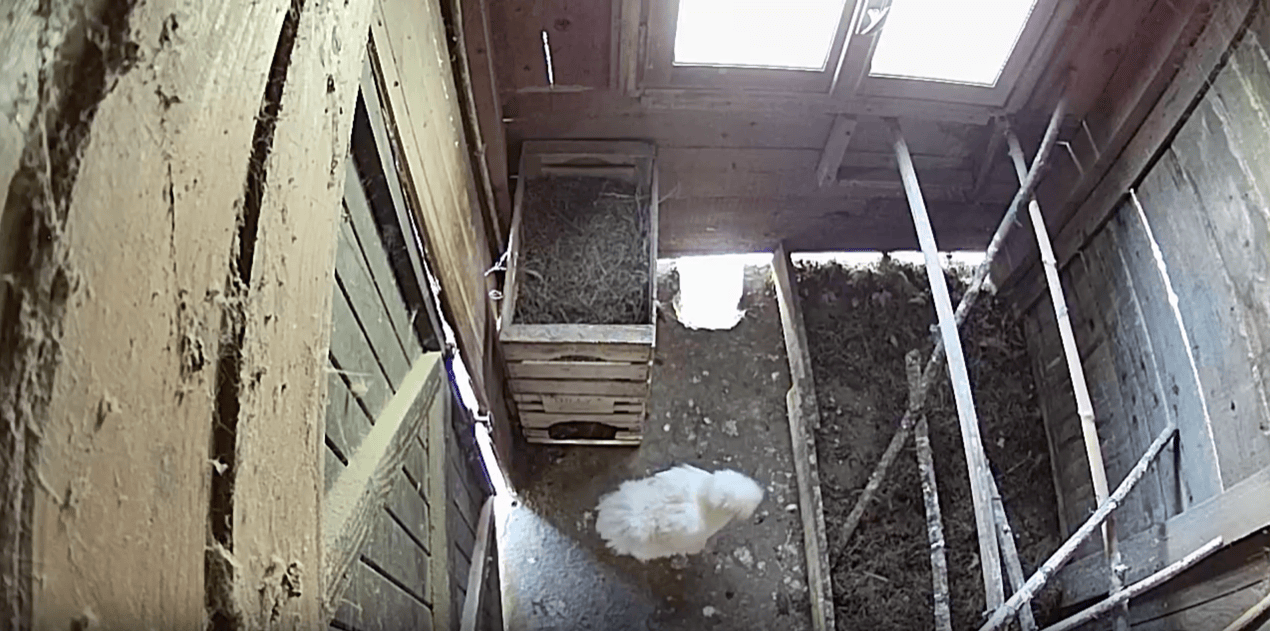chicken: (580, 452, 771, 575)
